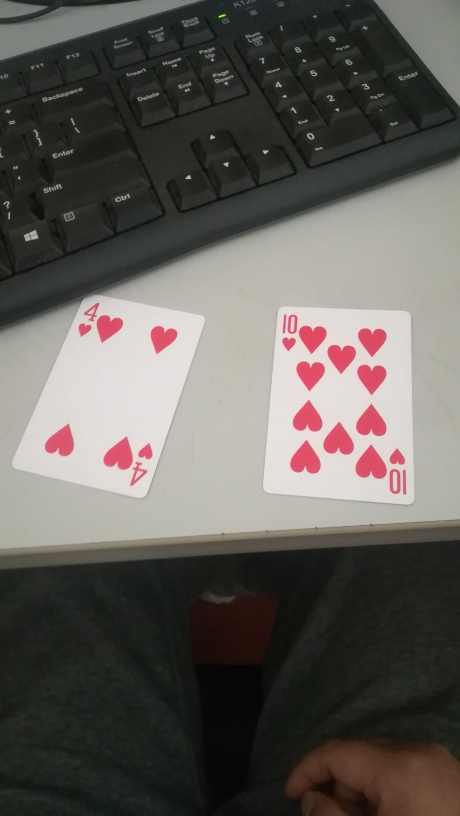hx 10: (258, 299, 429, 526)
hx 4: (16, 290, 206, 504)
